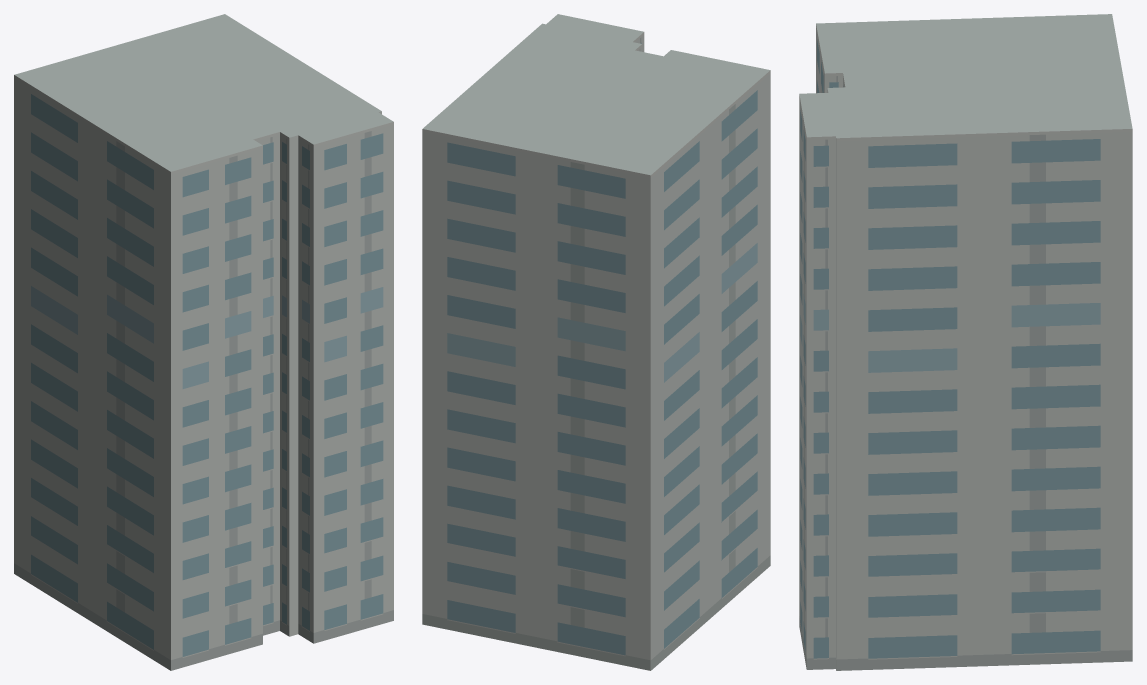
Rendered from survey-upis-32975310.glb.
The picture shows the model from 3 angles, left to right: view 1: azimuth 30°, elevation 25°; view 2: azimuth 150°, elevation 25°; view 3: azimuth 270°, elevation 25°; orthographic projection. The views are drawn at different scales.
Visible parts, largest first — view 1: survey-upis-32975310.tmp; view 2: survey-upis-32975310.tmp; view 3: survey-upis-32975310.tmp.
Part boxes in pixels (bbox=[...]): survey-upis-32975310.tmp: bbox=[14, 14, 393, 670]; survey-upis-32975310.tmp: bbox=[422, 14, 770, 670]; survey-upis-32975310.tmp: bbox=[799, 14, 1132, 670].
Bounding box in the file's own units: 21.42 × 42.8 × 24.28.
